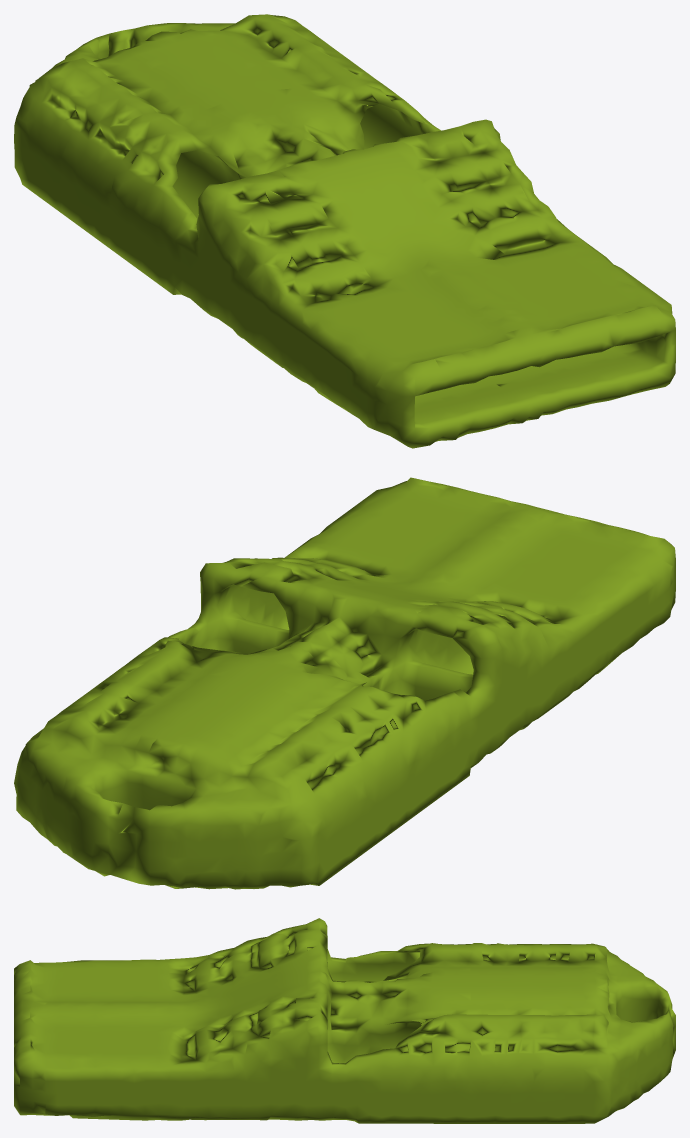
The model's file is model_decimated.obj.
3 views of the same model, one above another, from view 1: azimuth 30°, elevation 25°; view 2: azimuth 150°, elevation 25°; view 3: azimuth 270°, elevation 25° (orthographic). The views are drawn at different scales.
Bounding box in the file's own units: 22.23 × 8.95 × 55.41.
